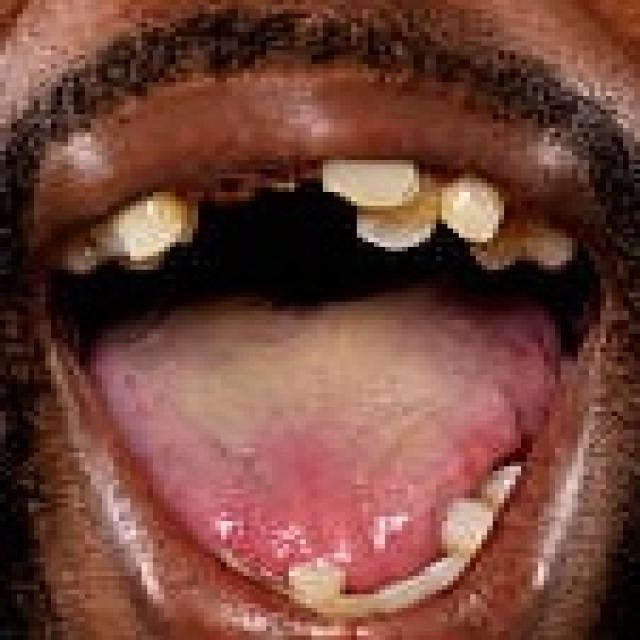open-mouth: (0, 56, 634, 639)
